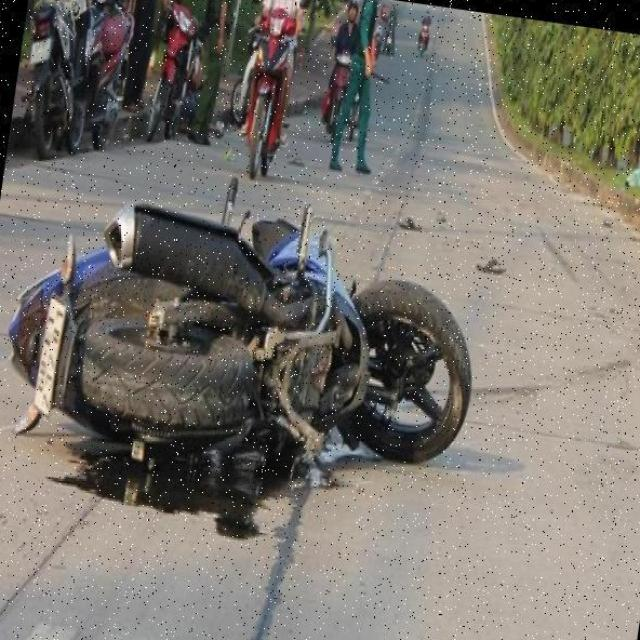accident: (0, 132, 532, 552)
